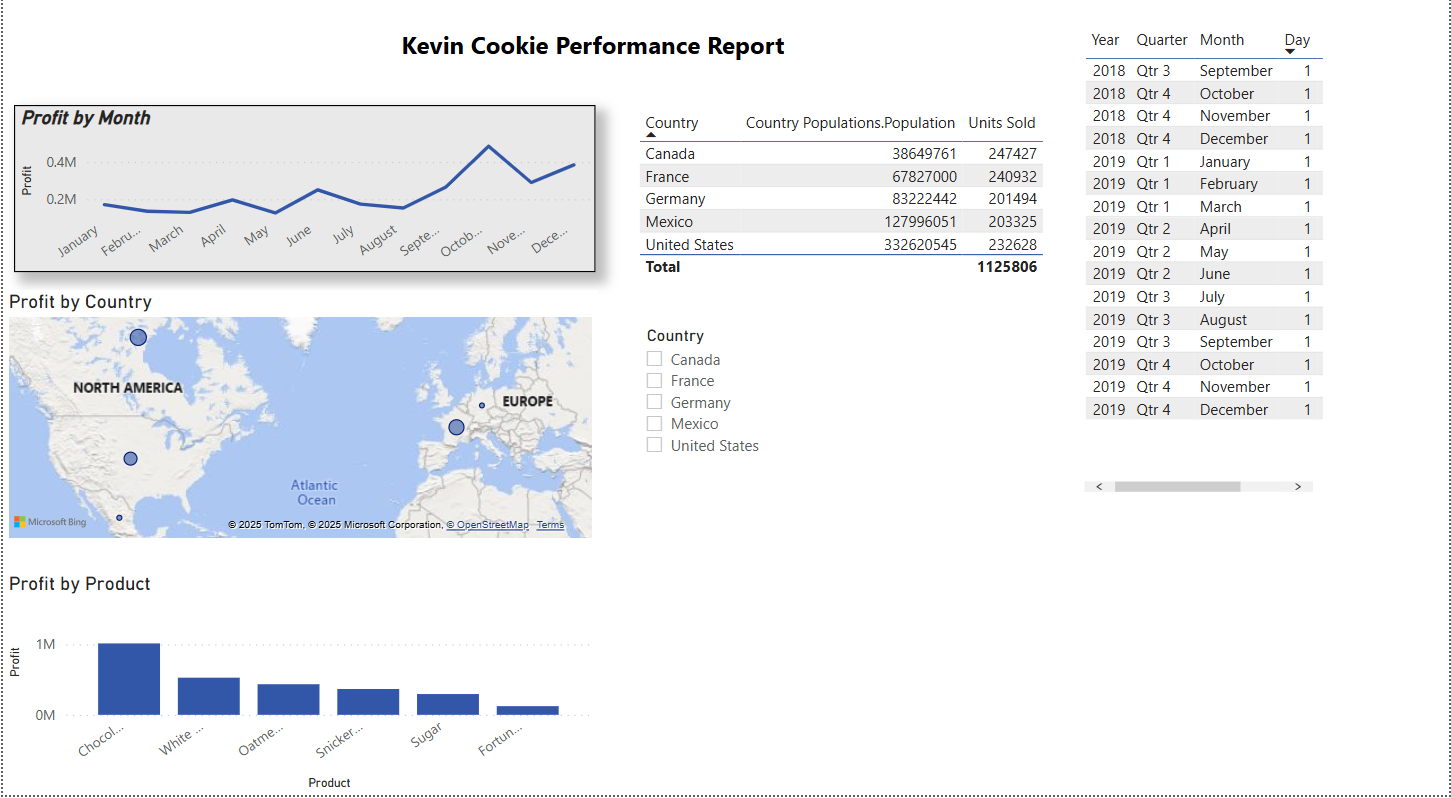

This screenshot's page, from the dashboard's own definition file:
{"tool":"powerbi","page":{"name":"Page 1","canvas":[1280,720],"ordinal":0},"visuals":[{"type":"textbox","box":[10,0,280,280],"z":0},{"type":"textbox","box":[9.7,35,1025.2,48.6],"z":1000},{"type":"tableEx","fields":{"Values":["Cookie Sales.Date.Variation.Date Hierarchy.Year","Cookie Sales.Date.Variation.Date Hierarchy.Quarter","Cookie Sales.Date.Variation.Date Hierarchy.Month","Cookie Sales.Date.Variation.Date Hierarchy.Day","Cookie Sales.Month"]},"box":[952.9,35,221,421.5],"z":2000},{"type":"lineChart","fields":{"Y":["Cookie Sales.Profit"],"Category":["Cookie Sales.Date.Variation.Date Hierarchy.Year","Cookie Sales.Date.Variation.Date Hierarchy.Quarter","Cookie Sales.Date.Variation.Date Hierarchy.Month","Cookie Sales.Date.Variation.Date Hierarchy.Day"]},"box":[9.7,108.9,515,148],"z":3000},{"type":"map","fields":{"Category":["Cookie Sales.Country"],"Size":["Cookie Sales.Profit"]},"box":[0,272.3,527.2,224.7],"z":4000},{"type":"tableEx","fields":{"Values":["Cookie Sales.Country","Cookie Sales.Country Populations.Population","Cookie Sales.Units Sold"]},"box":[557.7,109,373.8,171.3],"z":5000},{"type":"columnChart","fields":{"Category":["Cookie Sales.Product"],"Y":["Cookie Sales.Profit"]},"box":[0,522.5,527,197.5],"z":6000},{"type":"slicer","fields":{"Values":["Cookie Sales.Country"]},"box":[557.3,300.5,159.5,131.3],"z":7000}]}

Visuals, with their boxes in screenshot pixels (x1, y1, x2, y2), scaled from the page's 1280x720 canvas onto the 1451x798 screenshot:
textbox: box=[11, 0, 329, 310]
textbox: box=[11, 39, 1173, 93]
tableEx - Cookie Sales.Date.Variation.Date Hierarchy.Year x Cookie Sales.Date.Variation.Date Hierarchy.Quarter: box=[1080, 39, 1331, 506]
lineChart - Cookie Sales.Profit x Cookie Sales.Date.Variation.Date Hierarchy.Year: box=[11, 121, 595, 285]
map - Cookie Sales.Country x Cookie Sales.Profit: box=[0, 302, 598, 551]
tableEx - Cookie Sales.Country x Cookie Sales.Country Populations.Population: box=[632, 121, 1056, 311]
columnChart - Cookie Sales.Product x Cookie Sales.Profit: box=[0, 579, 597, 797]
slicer - Cookie Sales.Country: box=[632, 333, 813, 479]
